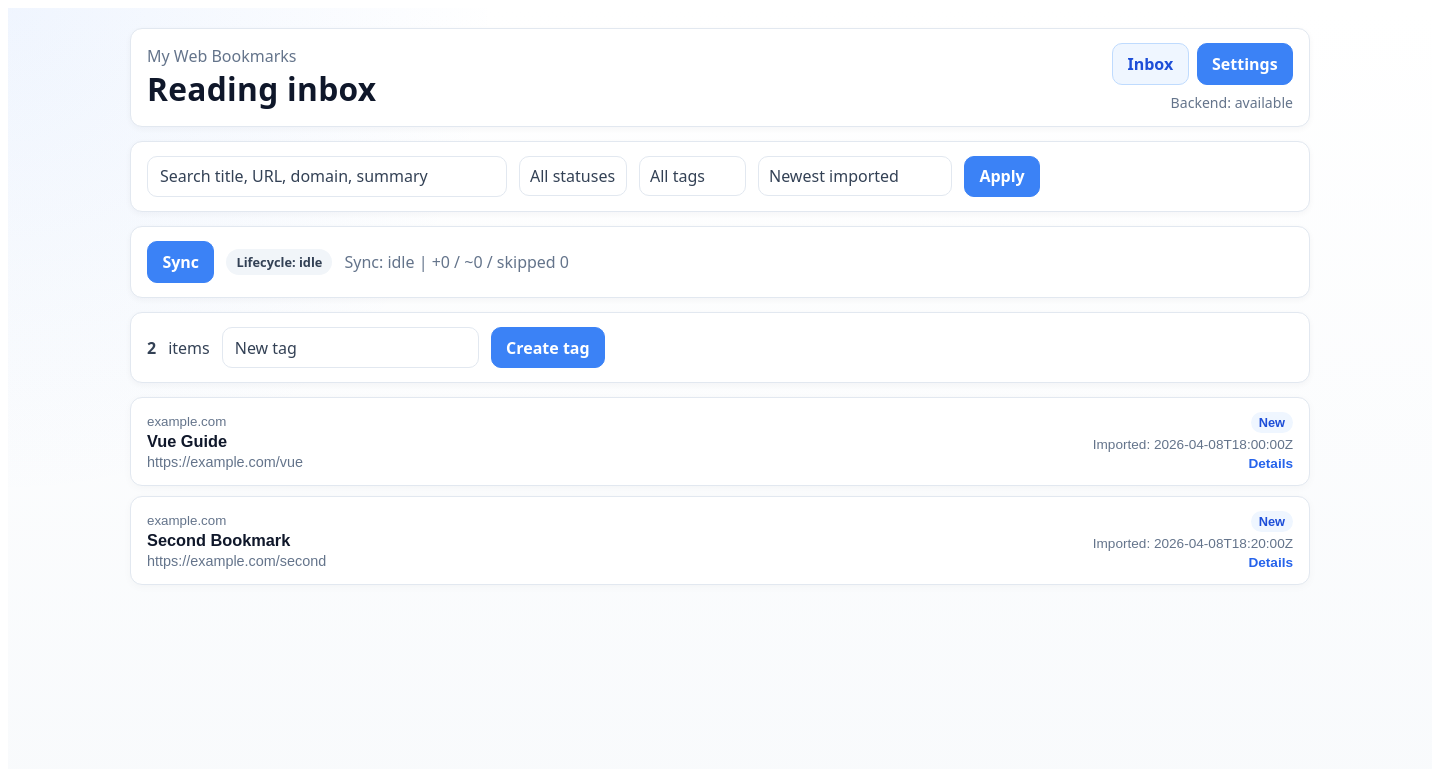
Test: App › shows backend availability when health check succeeds
This screenshot has width=1440, height=769.
Click the button with aria-label "Toggle details for Vue Guide" at (187, 421), box x1=131 y1=398 x2=1309 y2=485
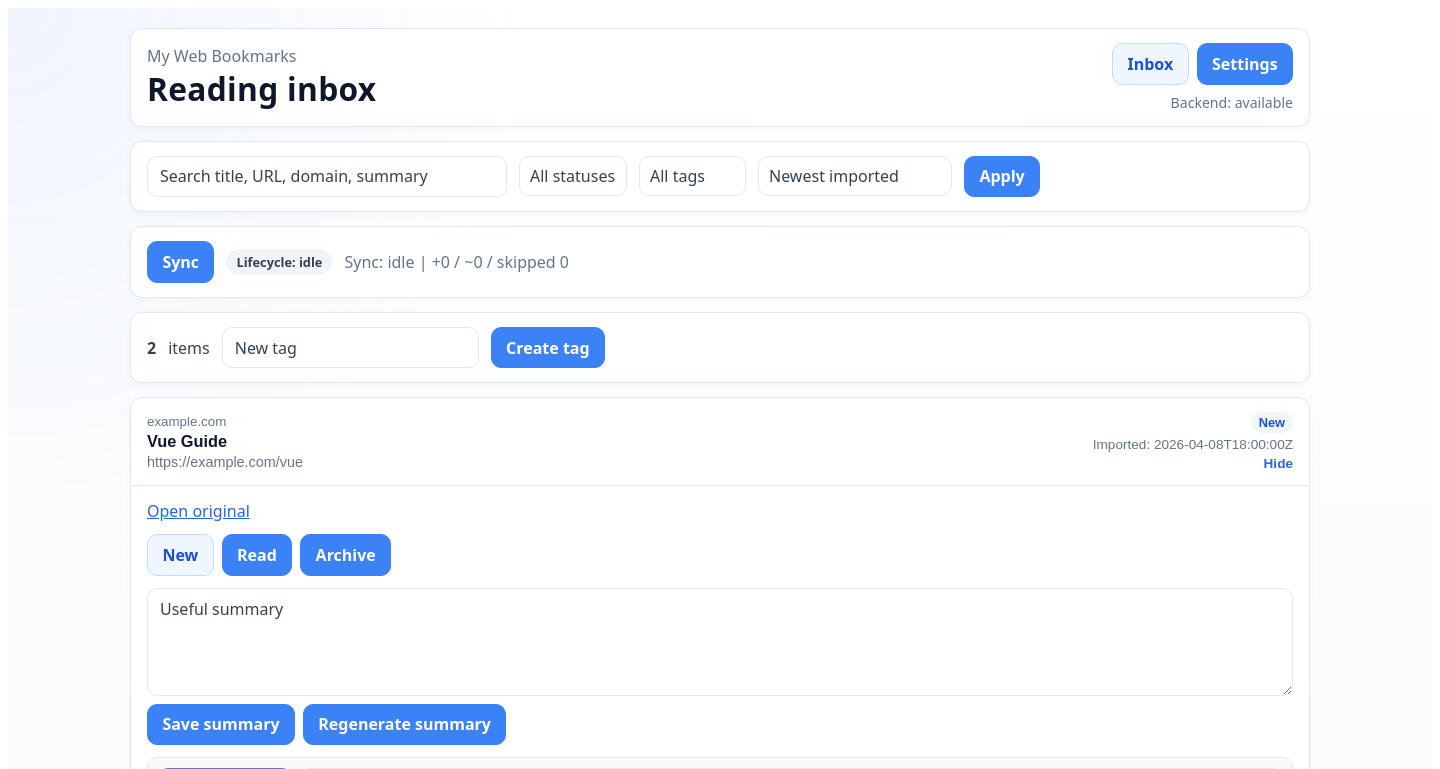
Expected: the text box named "Summary for Vue Guide" holds "Useful summary", x1=147 y1=588 x2=1293 y2=696
